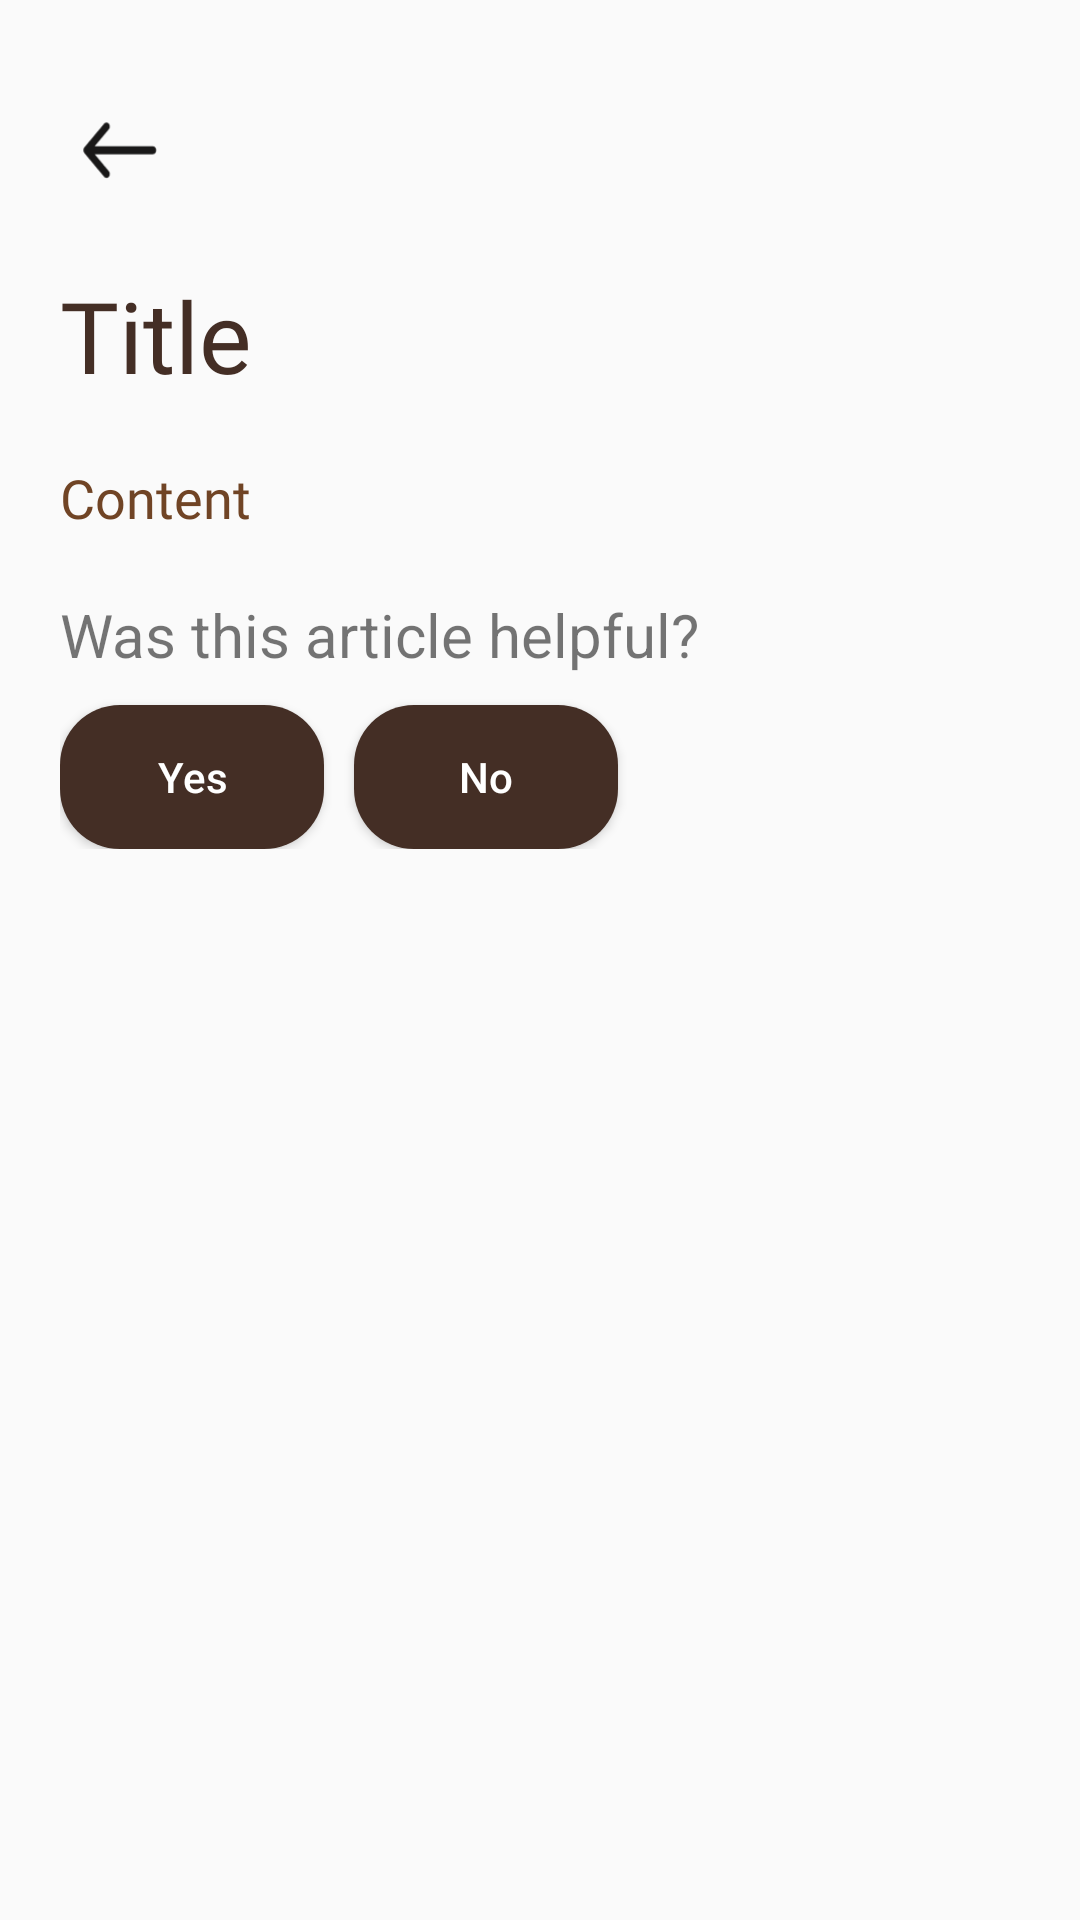

Locate icon controls on the screen. Image size 1080px x 1920px, boxes as rect(x1, y1, x2, y2).
left arrow: rect(83, 122, 157, 178)
